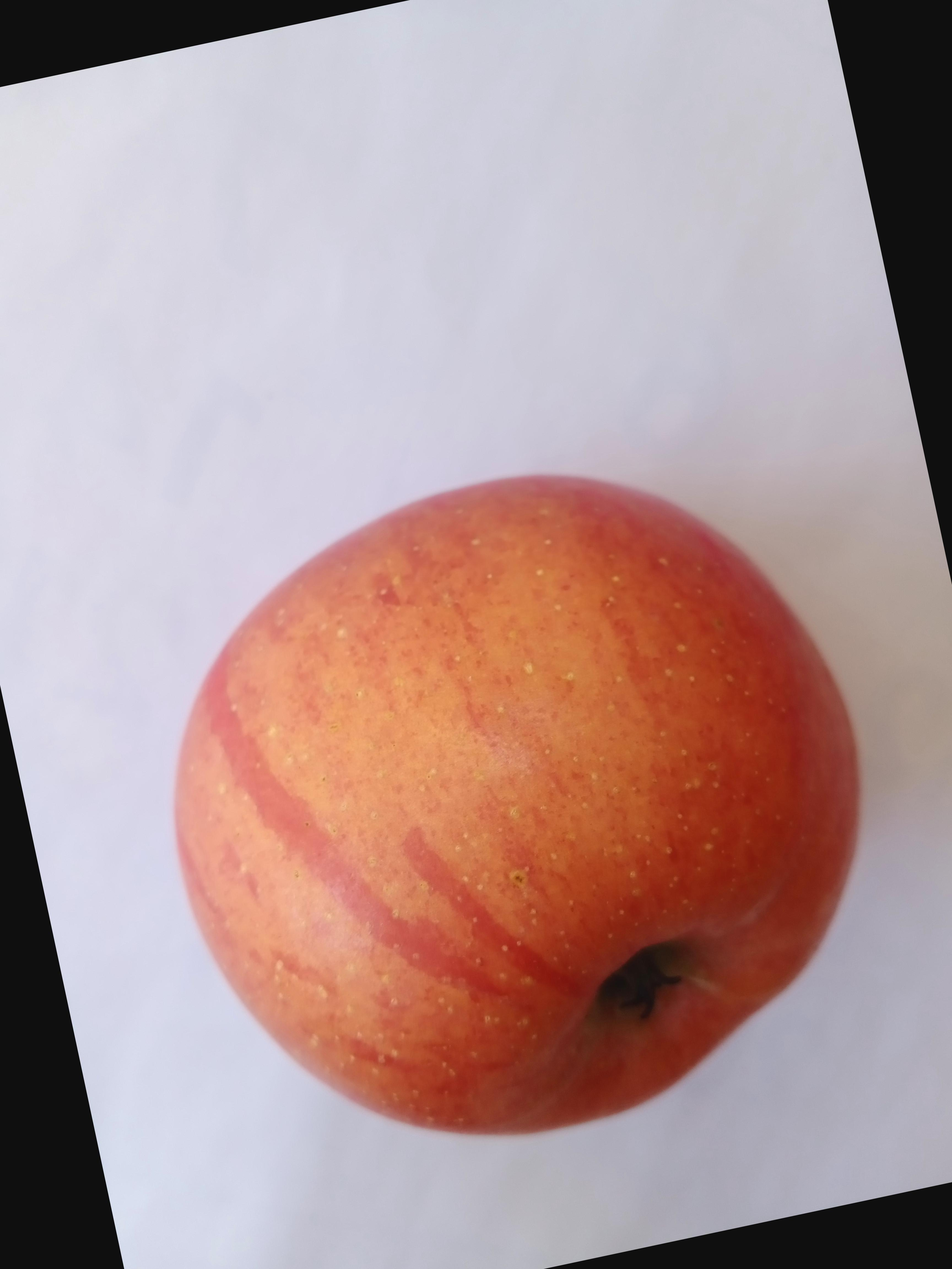Apple Ripe: (0, 523, 791, 1269)
